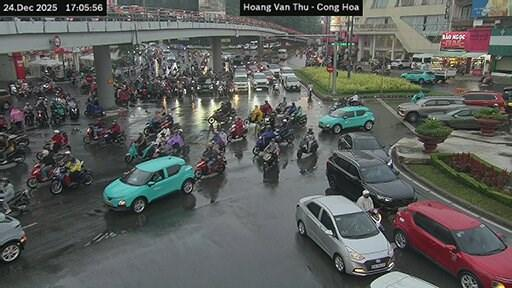motorbike: (50, 166, 92, 193), (83, 125, 125, 145), (25, 162, 56, 188), (195, 157, 226, 179), (124, 142, 153, 162), (143, 118, 172, 135), (166, 135, 188, 156), (98, 130, 125, 147), (8, 189, 28, 211), (297, 136, 317, 157), (329, 100, 361, 112), (83, 124, 103, 143), (207, 108, 234, 122), (0, 148, 25, 163), (368, 207, 383, 230), (50, 103, 64, 125), (275, 127, 294, 143), (252, 135, 268, 154), (7, 134, 28, 148), (227, 125, 246, 140), (57, 131, 70, 152), (263, 152, 278, 170), (166, 144, 188, 156), (67, 99, 79, 120), (83, 103, 103, 115), (288, 113, 306, 126), (35, 109, 48, 126), (371, 66, 389, 75), (25, 109, 34, 125), (410, 93, 425, 102), (480, 76, 492, 86), (275, 103, 285, 112), (35, 148, 42, 160), (42, 140, 51, 149), (272, 81, 278, 94), (355, 64, 361, 72), (0, 198, 3, 206)
